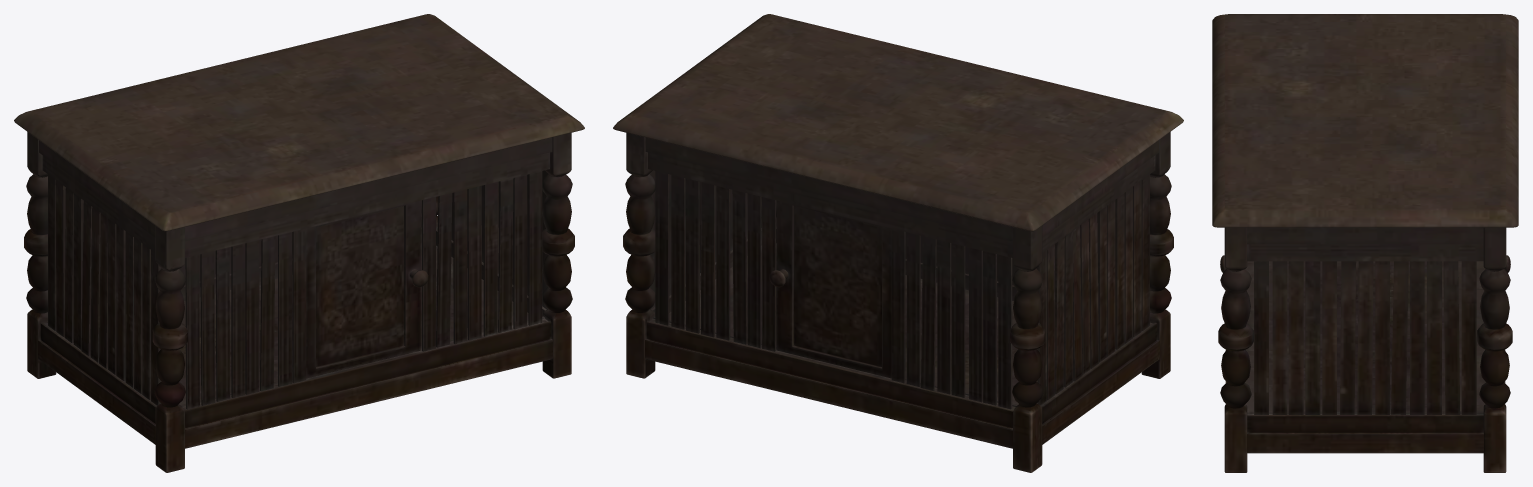
The model's file is gallinera_table.glb.
3 renders of one model, left to right at view 1: azimuth 30°, elevation 25°; view 2: azimuth 150°, elevation 25°; view 3: azimuth 270°, elevation 25°, orthographic.
Visible parts, largest first — view 1: gallinera_table, gallinera_table_door_a; view 2: gallinera_table, gallinera_table_door_b; view 3: gallinera_table.
Boxes of the visible parts, x1=… form: gallinera_table: x1=14, y1=14, x2=584, y2=472; gallinera_table_door_a: x1=306, y1=200, x2=428, y2=378; gallinera_table: x1=613, y1=14, x2=1183, y2=472; gallinera_table_door_b: x1=769, y1=200, x2=891, y2=378; gallinera_table: x1=1212, y1=14, x2=1518, y2=472.
Size of the model in its own units: 0.8301 by 0.4878 by 0.5183.
1 material, 1 textured.
